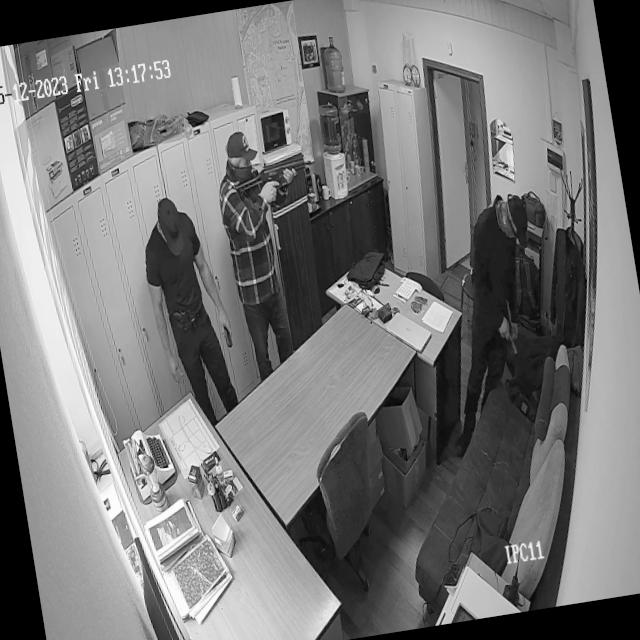gun: (232, 152, 316, 202)
person: (413, 188, 565, 463), (134, 187, 248, 438)
person with a gun: (210, 116, 344, 384)
